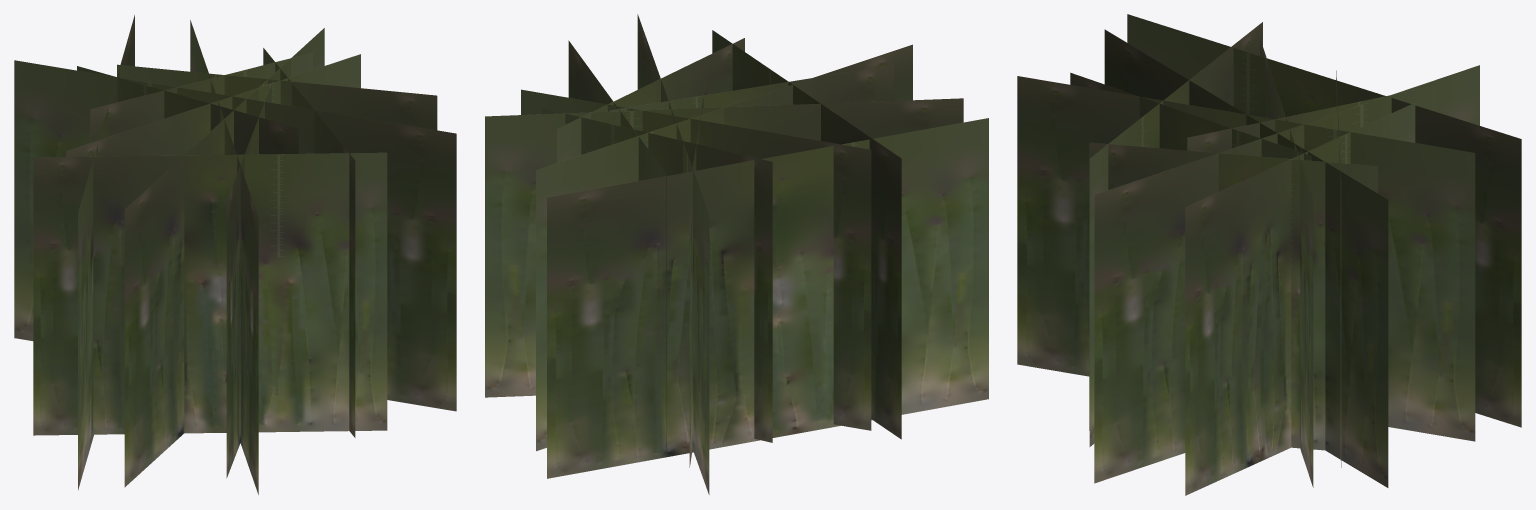
Rendered from grass_mesh.fbx.
3 renders of one model, left to right at view 1: azimuth 30°, elevation 25°; view 2: azimuth 150°, elevation 25°; view 3: azimuth 270°, elevation 25°, orthographic. The views are drawn at different scales.
Visible parts, largest first — view 1: Plane; view 2: Plane; view 3: Plane.
Boxes of the visible parts, x1,y1,x2,y2 form: Plane: (14, 15, 456, 494); Plane: (485, 14, 988, 494); Plane: (1017, 14, 1521, 495).
Bounding box in the file's own units: 4.36 × 3.02 × 4.74.
